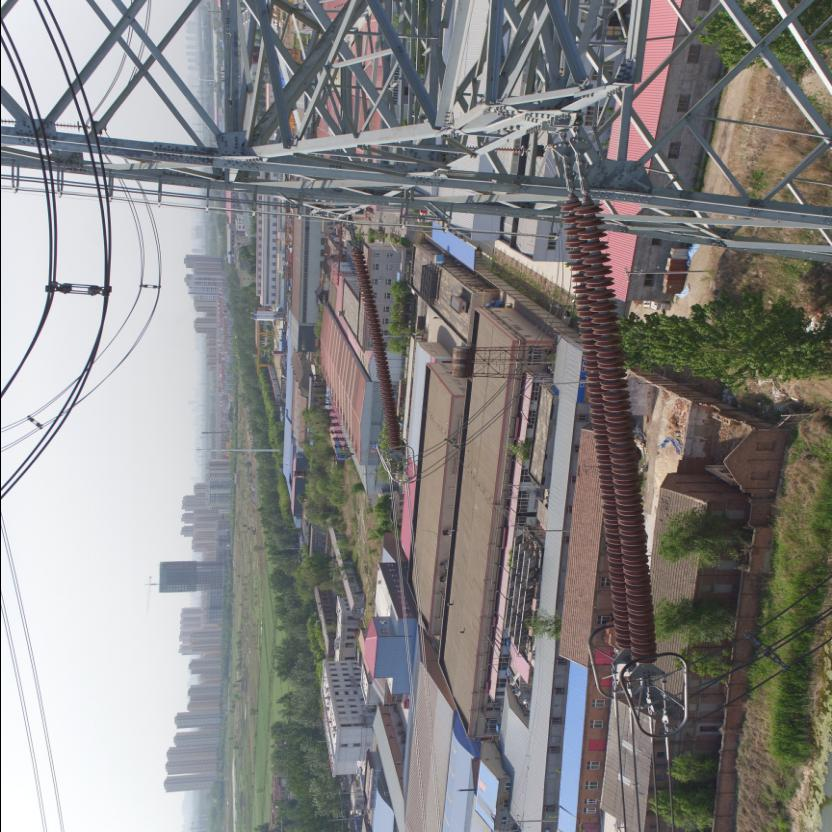insulator: (556, 170, 656, 670), (347, 238, 407, 460)
